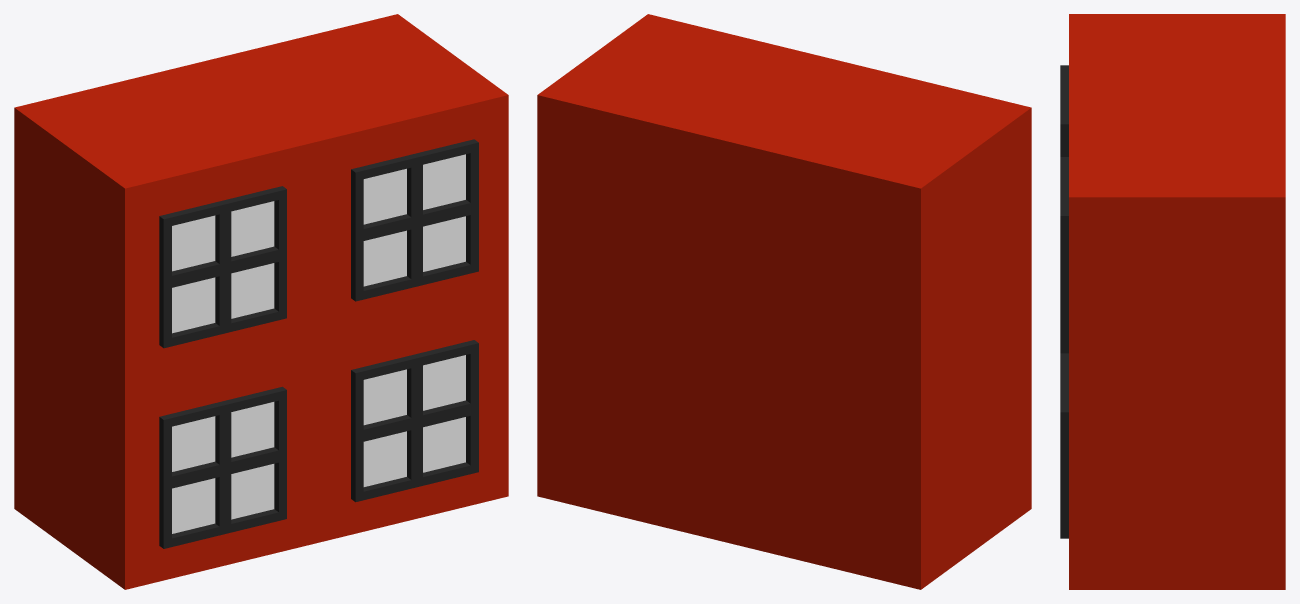
The model's file is Window1x2.gltf.
3 views of the same model, side by side, from view 1: azimuth 30°, elevation 25°; view 2: azimuth 150°, elevation 25°; view 3: azimuth 270°, elevation 25° (orthographic). The views are drawn at different scales.
Visible parts, largest first — view 1: B2; view 2: B2; view 3: B2.
Boxes of the visible parts, bbox=[...] form: B2: bbox=[14, 14, 508, 589]; B2: bbox=[537, 14, 1031, 589]; B2: bbox=[1060, 14, 1285, 589].
Bounding box in the file's own units: 4 × 4 × 2.08.
